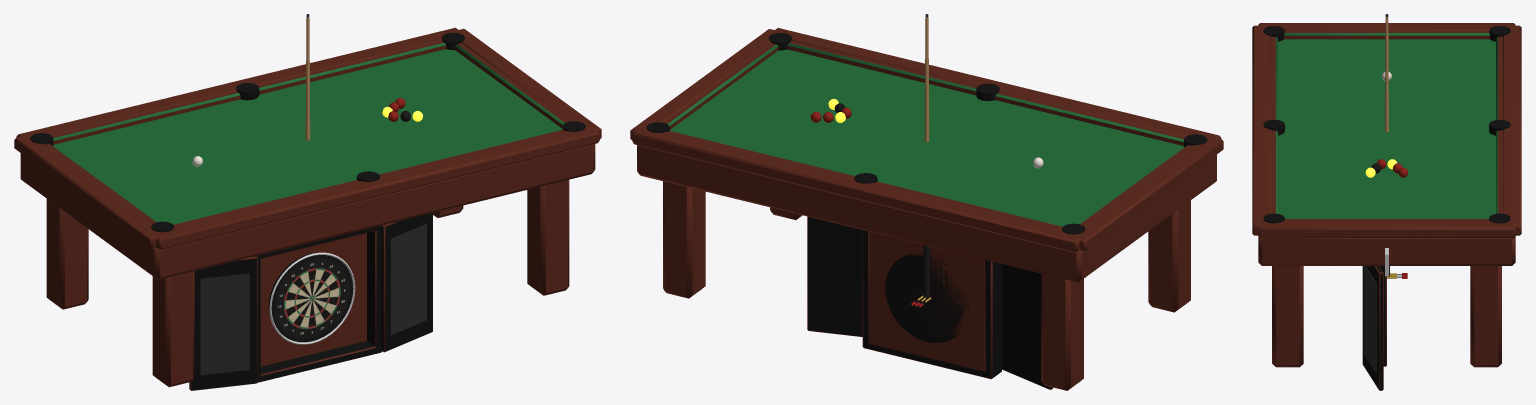
File: games.glb
3 renders of one model, left to right at view 1: azimuth 30°, elevation 25°; view 2: azimuth 150°, elevation 25°; view 3: azimuth 270°, elevation 25°, orthographic. The views are drawn at different scales.
Visible parts, largest first — view 1: pool_table, dartboard, pool_cue; view 2: pool_table, dartboard, pool_cue; view 3: pool_table, dartboard, pool_cue.
Part boxes in pixels (x1,y1,x2,y2): pool_table: [14, 27, 601, 387]; dartboard: [189, 213, 432, 390]; pool_cue: [305, 14, 310, 140]; pool_table: [630, 28, 1223, 390]; dartboard: [807, 216, 1052, 389]; pool_cue: [923, 14, 929, 299]; pool_table: [1252, 23, 1521, 367]; dartboard: [1362, 266, 1386, 390]; pool_cue: [1385, 14, 1389, 276].
Bounding box in the file's own units: 2.51 × 1.8 × 1.36.
16 materials, 1 textured.
